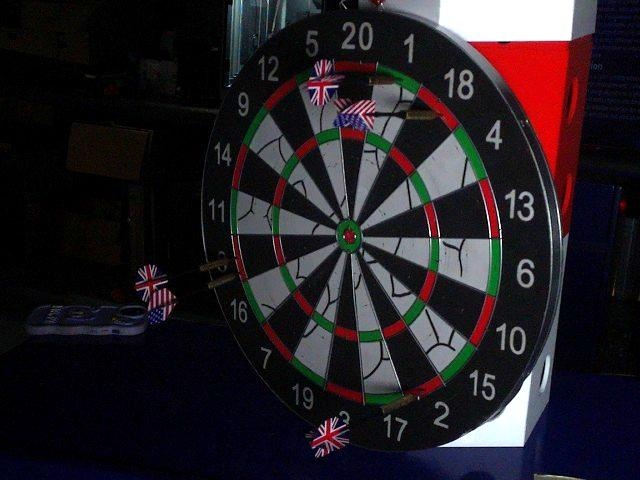double_1: (374, 65, 421, 94)
double_18: (417, 87, 459, 133)
double_2: (412, 378, 439, 397)
double_8: (232, 232, 247, 279)
